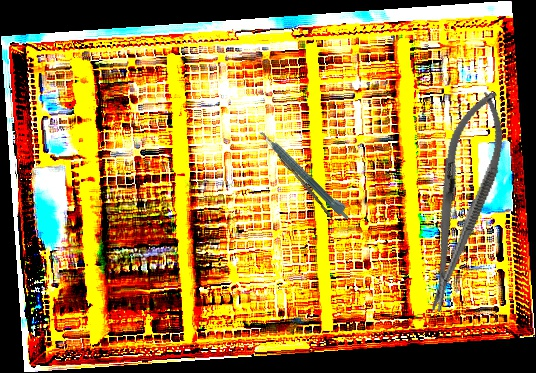Handpiece: (257, 125, 355, 222)
Needle Holder: (407, 84, 517, 319)
Surgical Spoon: (258, 131, 335, 220)
